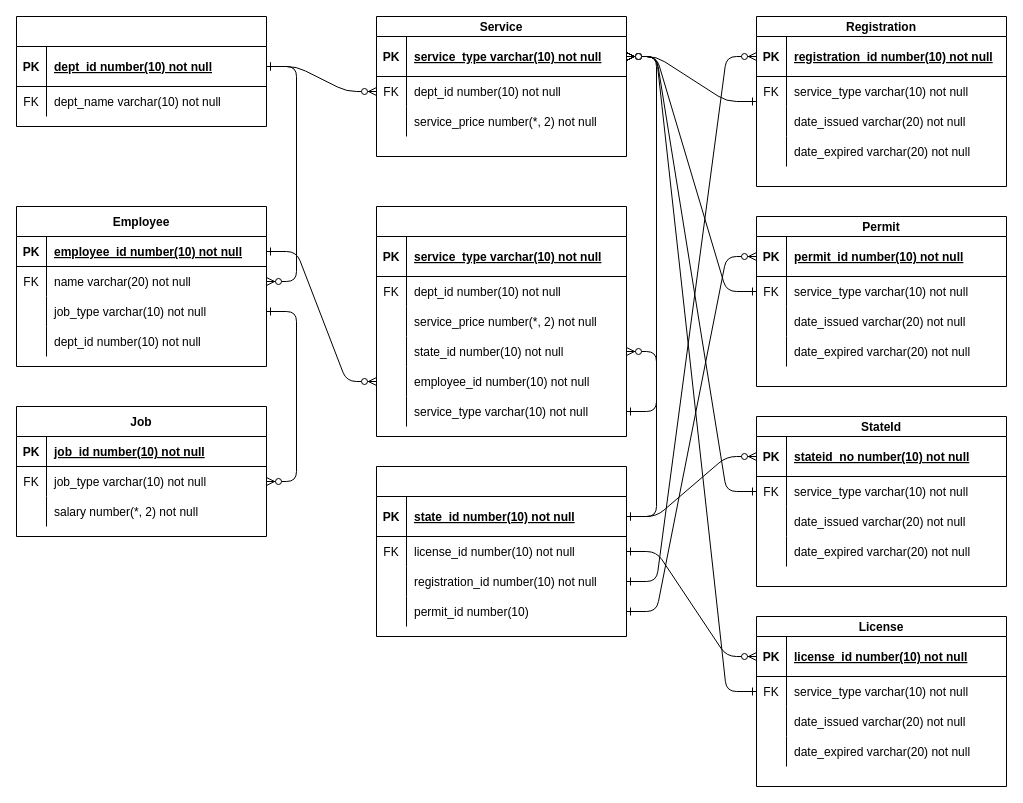
Image size: 1023x803. Some labels were removed from this diagram. The shapes that lost their labels are listed below. From the top down, each one's box as (x1, y1, x2, y2) in pixels, then its label:
(16, 16, 266, 126): Department
(376, 206, 626, 436): Appointment
(376, 466, 626, 636): User
